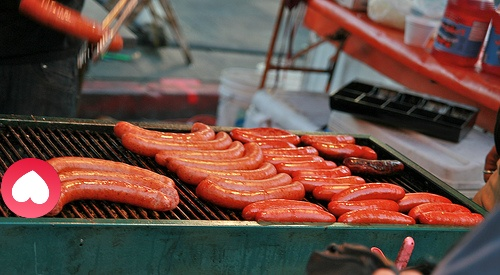love: (1, 158, 61, 218)
